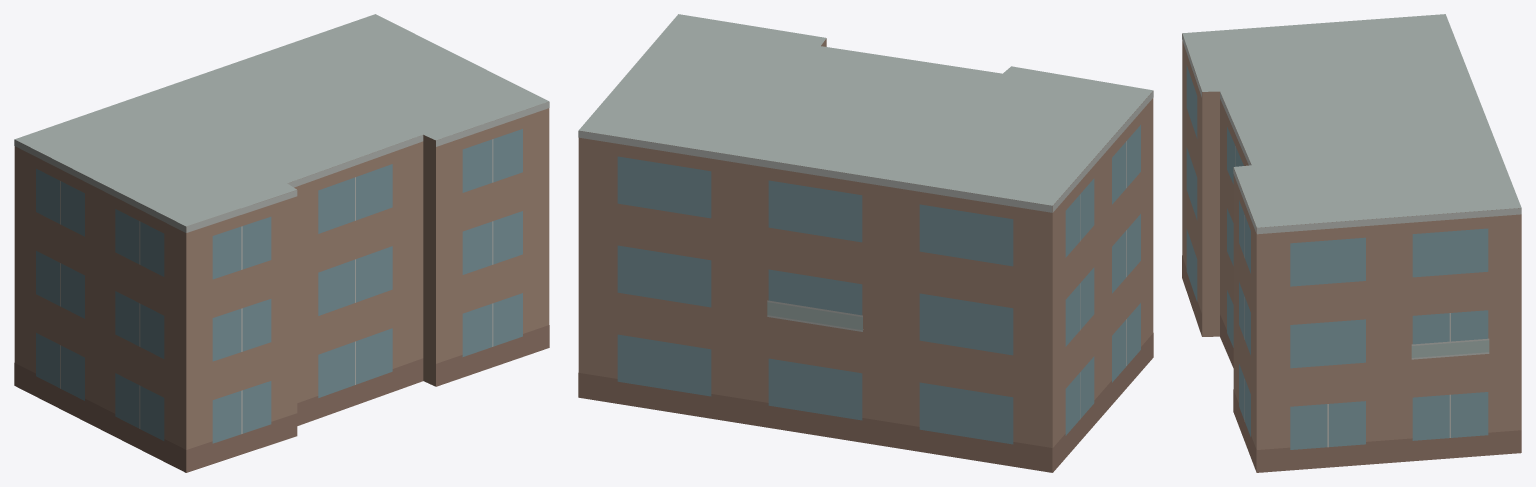
Rendered from survey-upis-32878335.glb.
3 renders of one model, left to right at view 1: azimuth 30°, elevation 25°; view 2: azimuth 150°, elevation 25°; view 3: azimuth 270°, elevation 25°, orthographic. The views are drawn at different scales.
Parts seen in each view (by area): view 1: survey-upis-32878335.tmp; view 2: survey-upis-32878335.tmp; view 3: survey-upis-32878335.tmp.
Boxes of the visible parts, x1,y1,x2,y2 form: survey-upis-32878335.tmp: [14, 14, 549, 472]; survey-upis-32878335.tmp: [578, 14, 1153, 472]; survey-upis-32878335.tmp: [1182, 14, 1521, 472].
Size of the model in its own units: 17.12 by 9.15 by 11.49.
